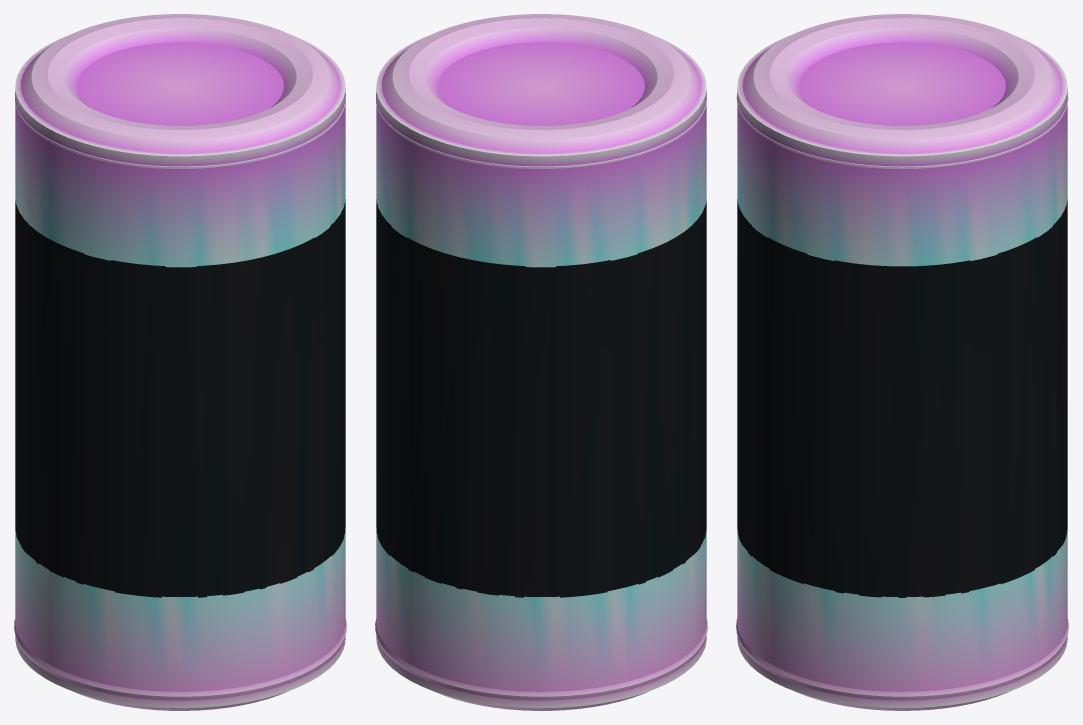
3 renders of one model, left to right at view 1: azimuth 30°, elevation 25°; view 2: azimuth 150°, elevation 25°; view 3: azimuth 270°, elevation 25°, orthographic.
Visible parts, largest first — view 1: black_band, top_rim, bottom_rings; view 2: black_band, top_rim, bottom_rings; view 3: black_band, top_rim, bottom_rings.
Boxes of the visible parts, left/top/right/bottom form: black_band: left=15, top=199, right=345, bottom=597; top_rim: left=15, top=14, right=345, bottom=267; bottom_rings: left=14, top=528, right=346, bottom=710; black_band: left=376, top=199, right=706, bottom=597; top_rim: left=376, top=14, right=706, bottom=267; bottom_rings: left=375, top=528, right=707, bottom=710; black_band: left=737, top=198, right=1067, bottom=597; top_rim: left=736, top=14, right=1068, bottom=266; bottom_rings: left=736, top=529, right=1068, bottom=710.
Bounding box in the file's own units: 0.6277 × 1.2 × 0.6277.
